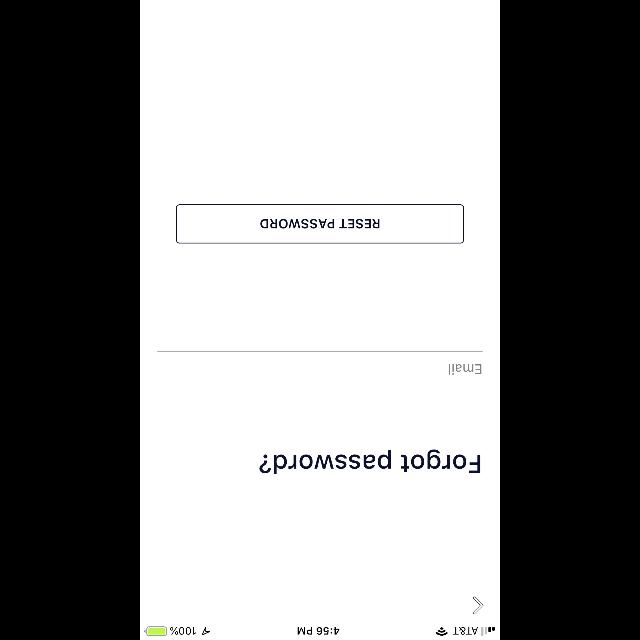icon: (472, 596, 483, 614)
input: (158, 351, 482, 375)
text: (260, 450, 480, 474), (448, 364, 482, 376)
textbutton: (176, 204, 464, 243)
uppertaskbar: (140, 626, 500, 640)
